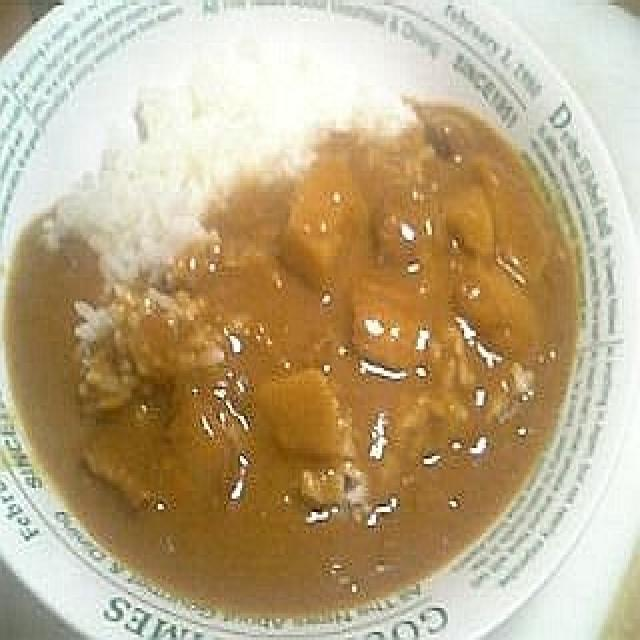Beef Curry: (0, 178, 581, 602)
